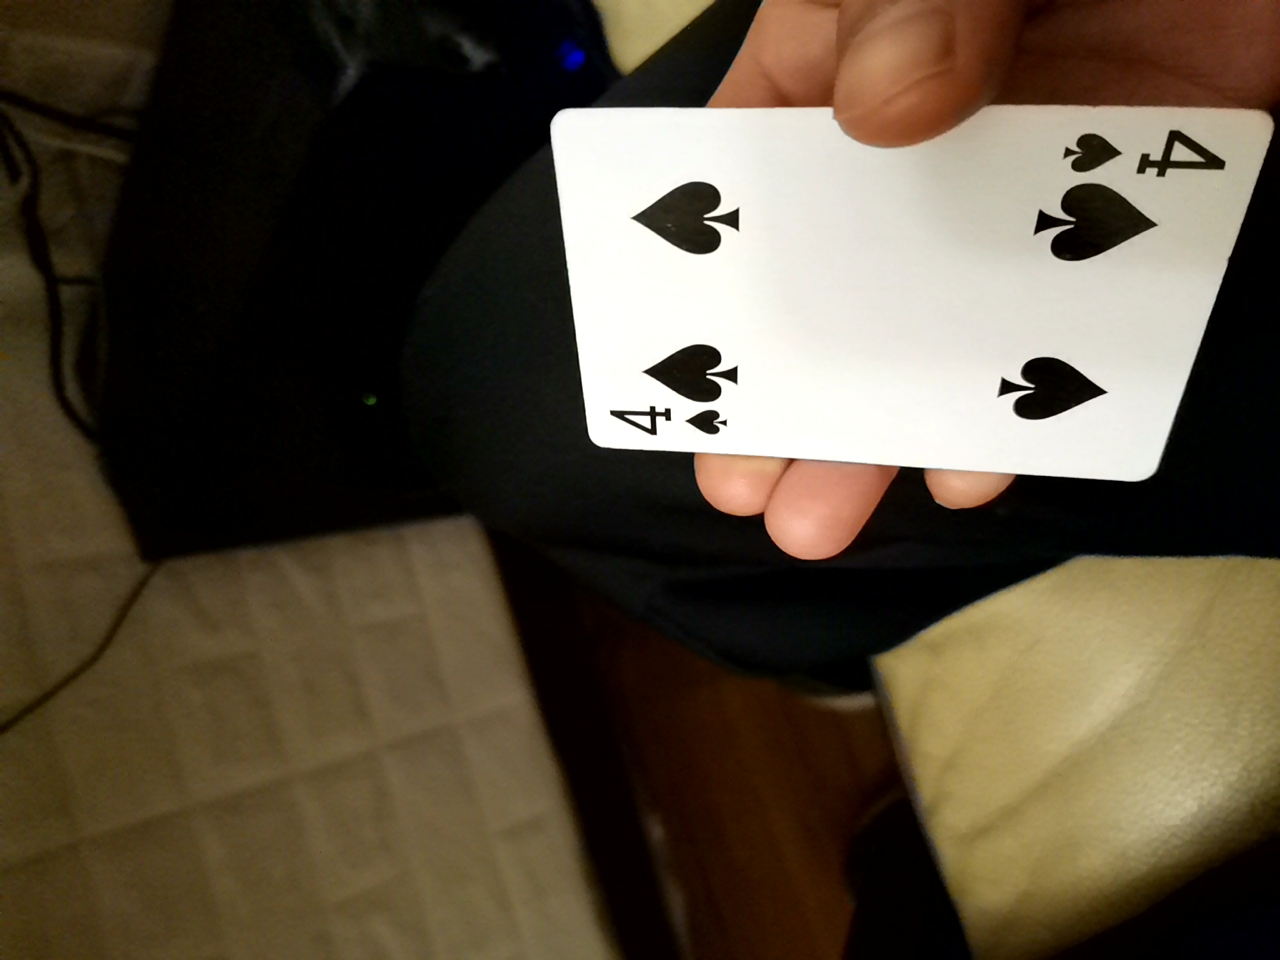ht 4: (542, 98, 1264, 499)
